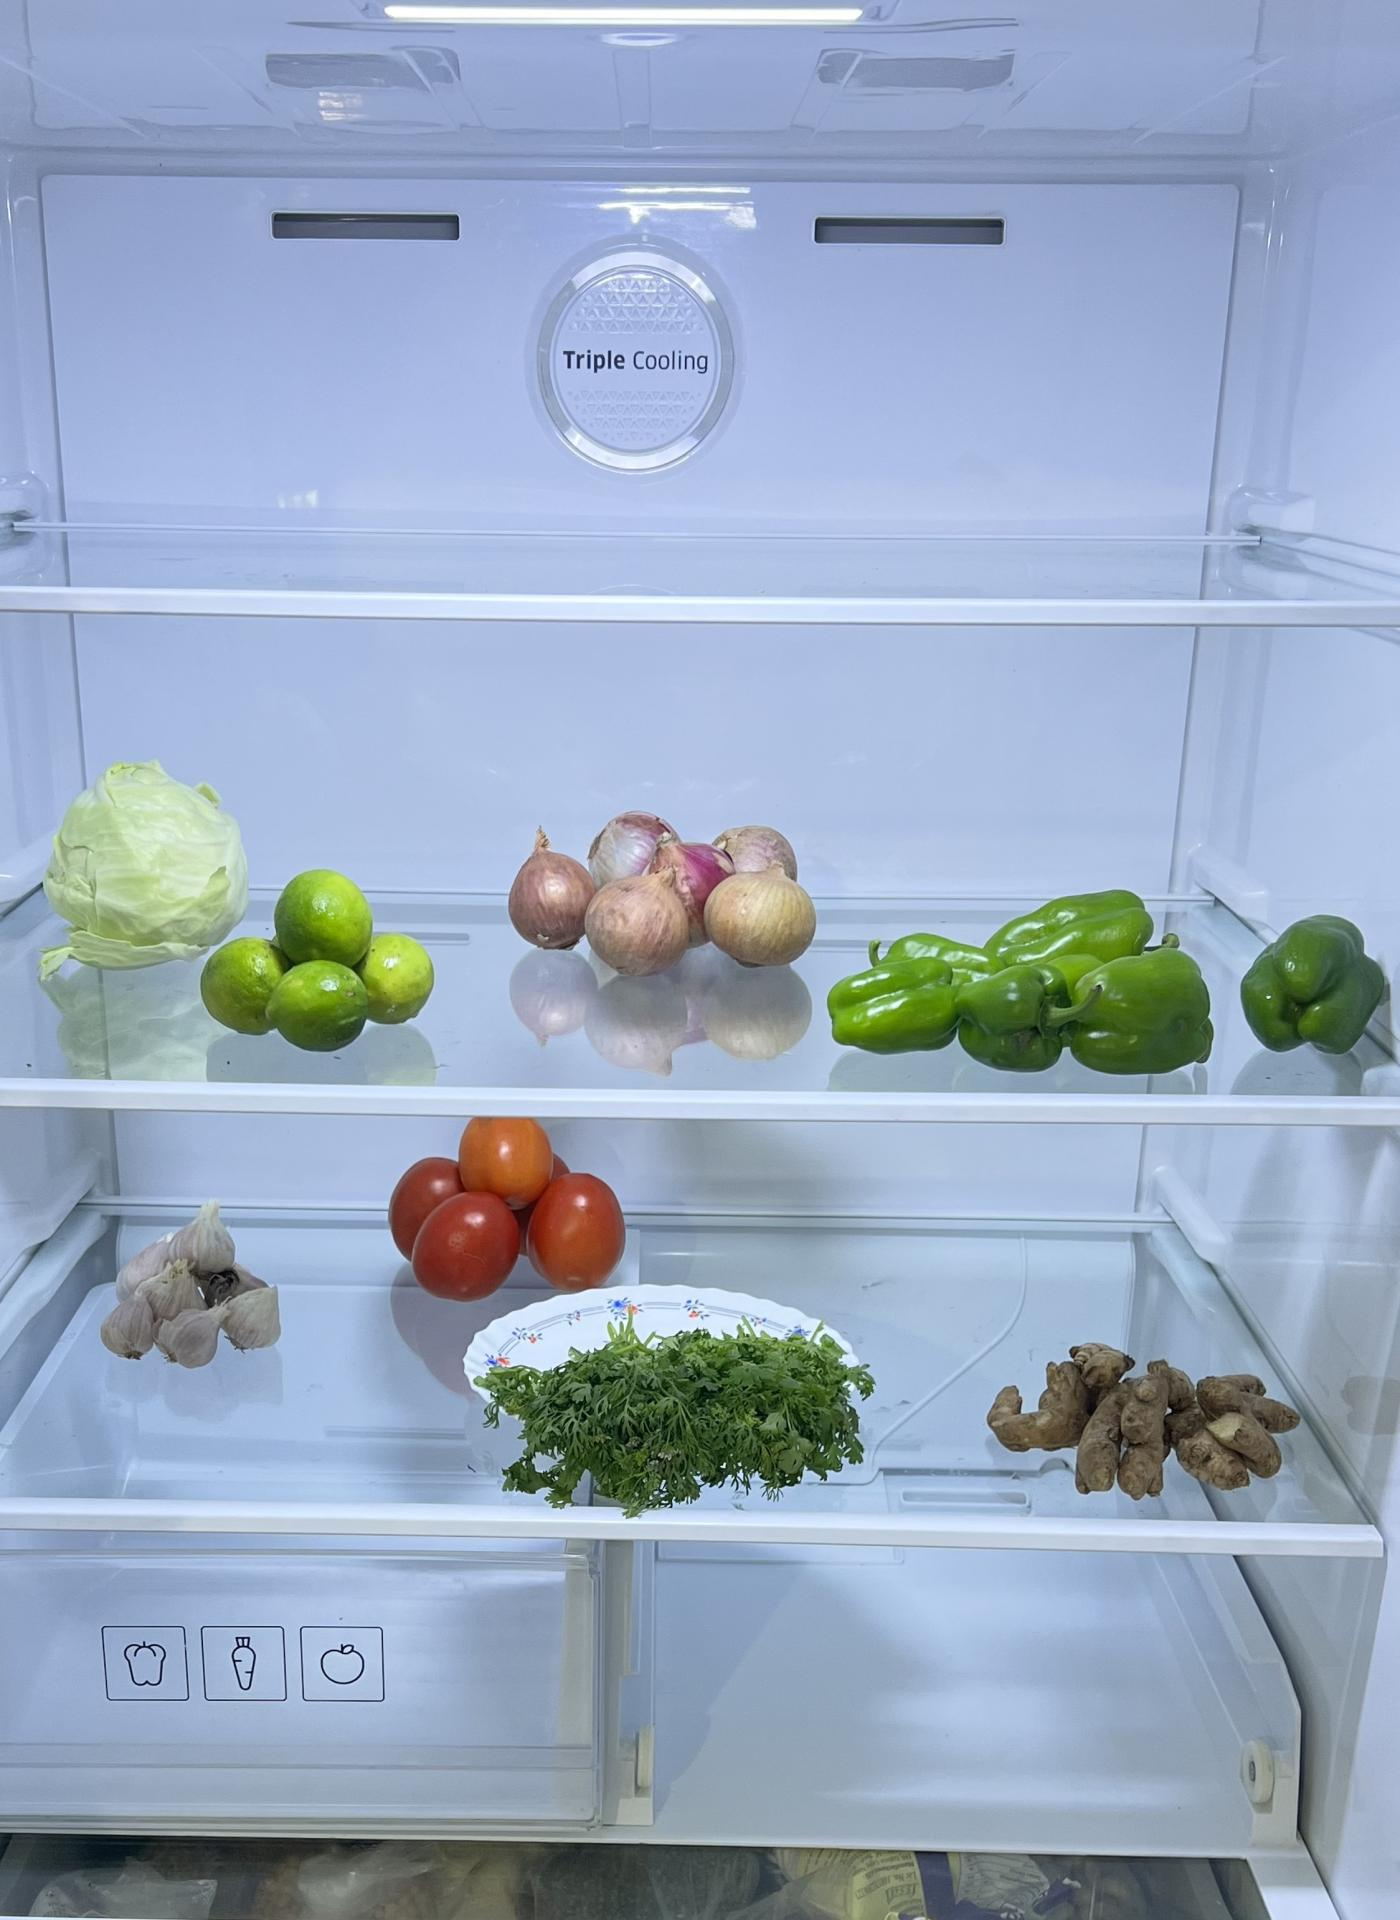cabbage: (57, 741, 239, 961)
capsicum: (832, 885, 1400, 1073)
coriander: (468, 1327, 896, 1516)
garlic: (110, 1201, 291, 1368)
ginger: (981, 1333, 1312, 1504)
lemon: (197, 872, 438, 1058)
onion: (505, 798, 822, 979)
tomato: (371, 1109, 628, 1291)
